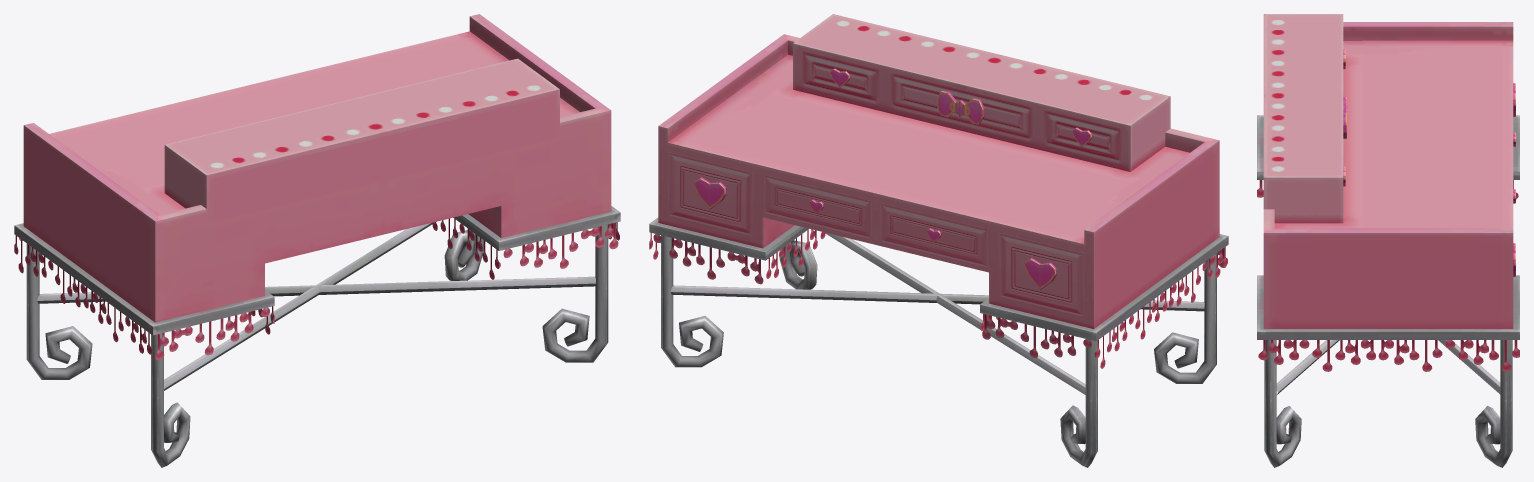
The model's file is furni_0200025.FBX.
3 renders of one model, left to right at view 1: azimuth 30°, elevation 25°; view 2: azimuth 150°, elevation 25°; view 3: azimuth 270°, elevation 25°, orthographic. The views are drawn at different scales.
Visible parts, largest first — view 1: furni_0200025; view 2: furni_0200025; view 3: furni_0200025.
Boxes of the visible parts, <box> form: furni_0200025: <box>14,14,620,467</box>; furni_0200025: <box>649,14,1228,467</box>; furni_0200025: <box>1257,14,1519,467</box>.
Size of the model in its own units: 164 by 96.29 by 84.24.
